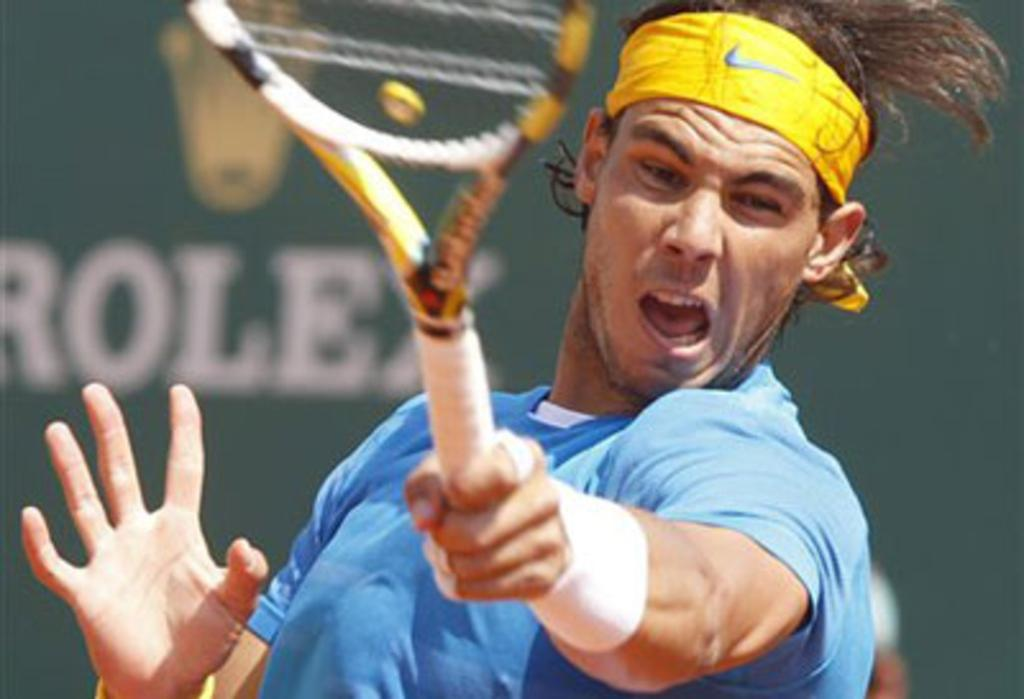face: (591, 95, 813, 407)
